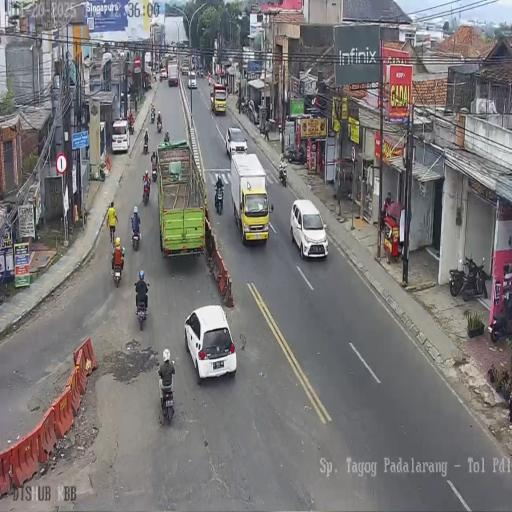car: (184, 305, 238, 383), (289, 200, 328, 260), (226, 125, 248, 159), (112, 118, 130, 154), (188, 68, 196, 88), (181, 62, 189, 76), (160, 68, 167, 80), (155, 66, 159, 75)
motorcycle: (461, 254, 488, 301), (489, 290, 512, 342), (158, 367, 175, 423), (135, 286, 148, 329), (285, 144, 306, 165), (112, 250, 123, 288), (214, 182, 224, 214), (131, 224, 140, 251), (278, 162, 287, 186), (142, 182, 150, 206), (151, 160, 158, 182), (128, 118, 135, 135), (143, 136, 149, 154), (240, 98, 247, 113), (156, 117, 162, 133), (150, 107, 156, 122), (277, 122, 282, 136), (199, 67, 203, 77), (154, 73, 156, 82)
truck: (156, 139, 206, 260), (234, 152, 270, 244), (210, 82, 227, 116), (168, 62, 178, 86), (144, 52, 152, 72)
